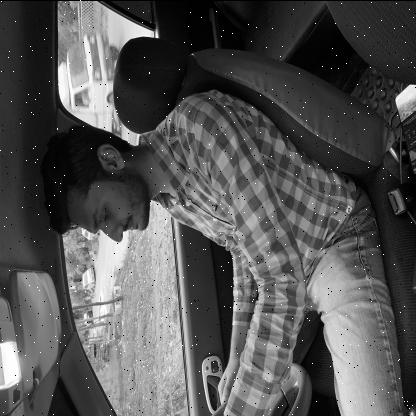no_seatbelt: (42, 115, 300, 244)
